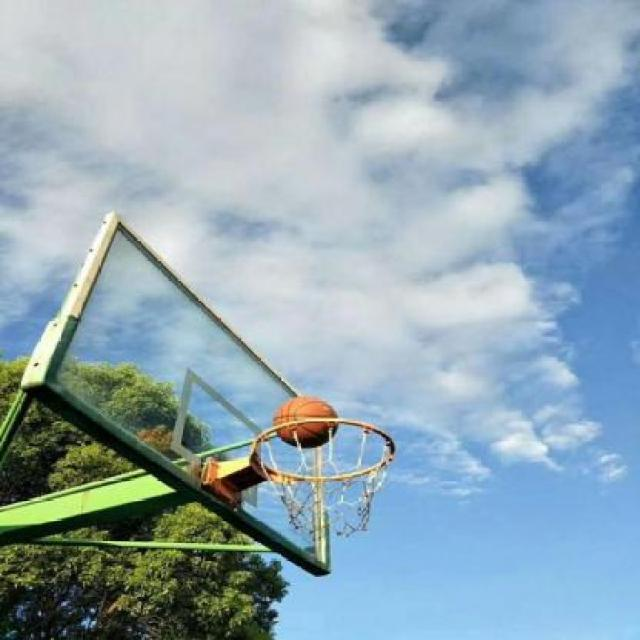basketball: (276, 397, 338, 443)
rim: (252, 420, 396, 534)
